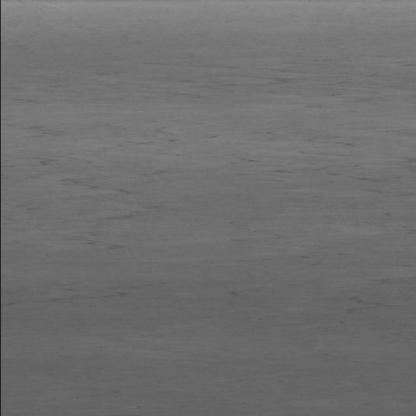silk_spot: (6, 84, 400, 250)
